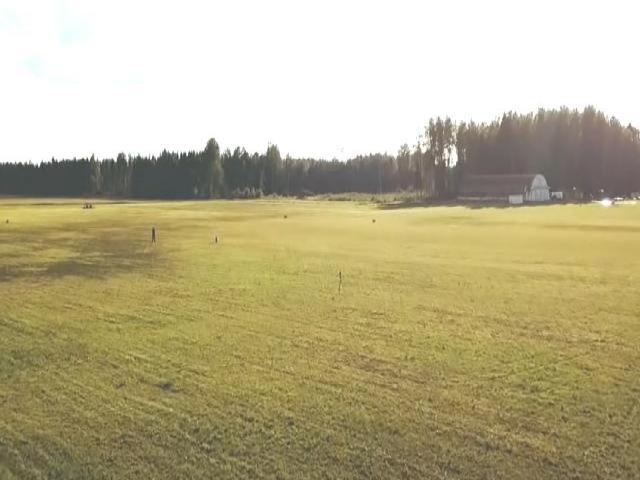iha: (323, 145, 362, 152)
